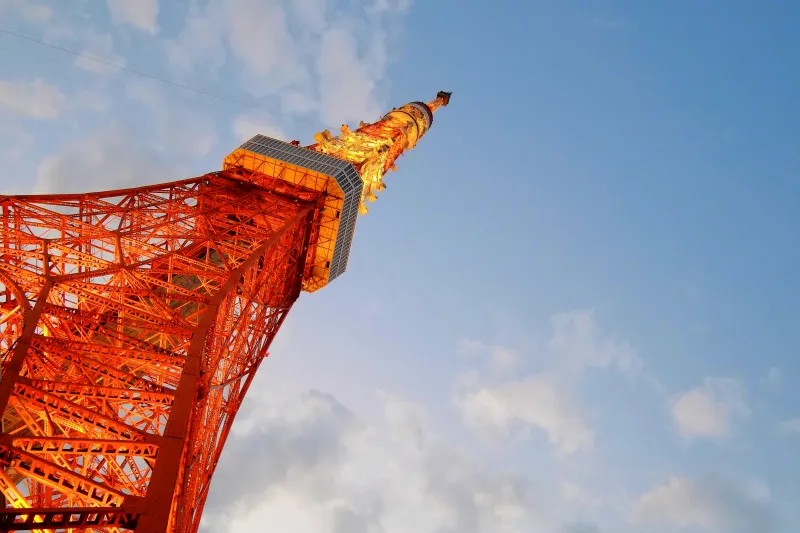Tokyo: (2, 84, 458, 532)
